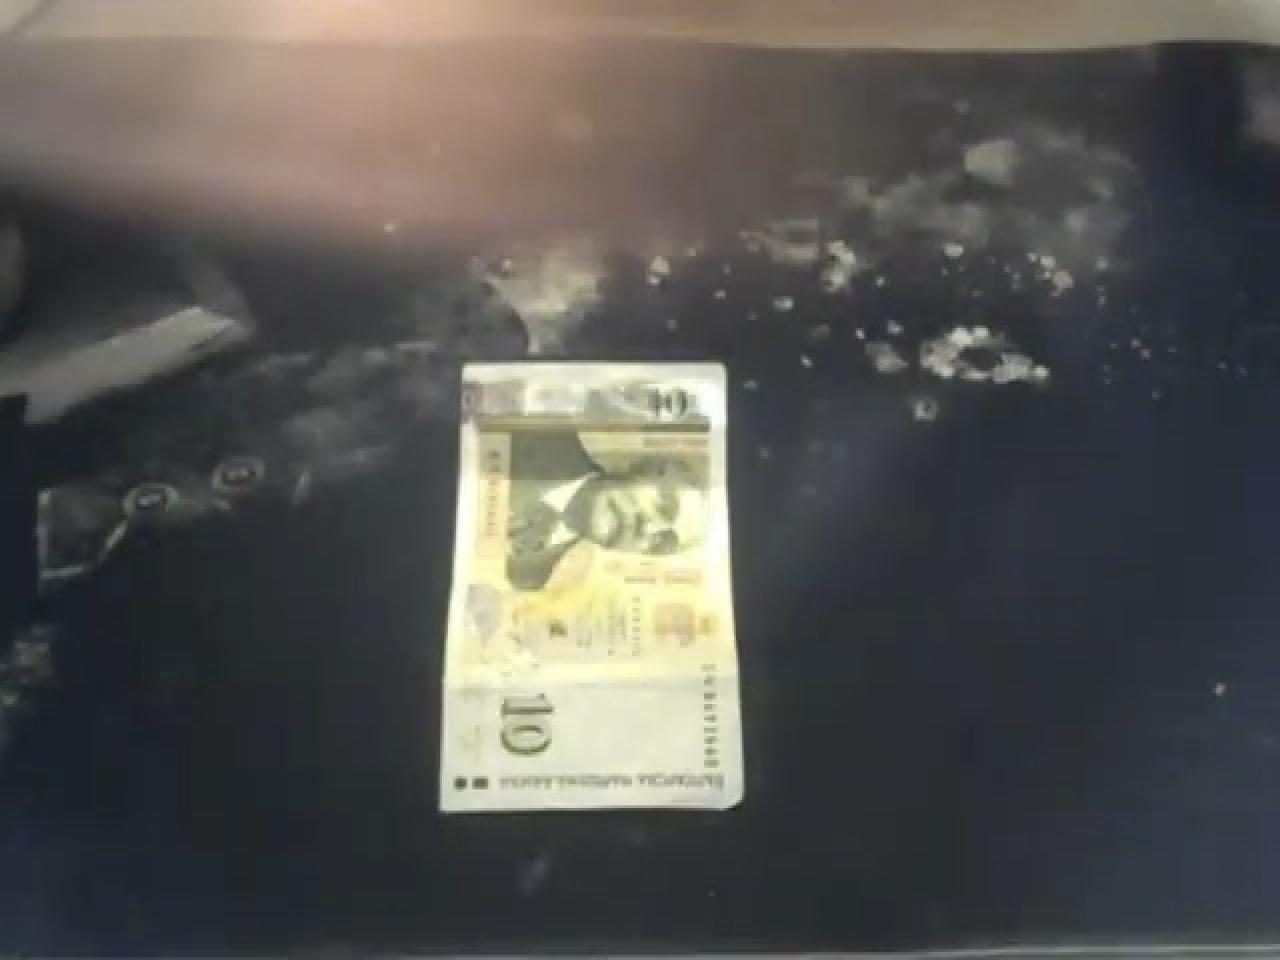10leva: (497, 419, 705, 607), (487, 679, 574, 784), (625, 361, 709, 450)
